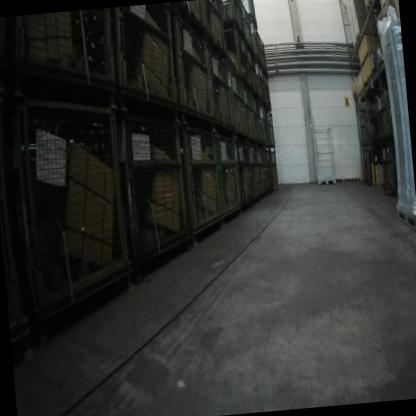pallet: (396, 199, 416, 232), (364, 0, 383, 16), (356, 31, 374, 44), (352, 41, 358, 52), (352, 91, 358, 97)
stillage: (17, 93, 137, 323), (114, 95, 193, 278), (8, 13, 119, 103), (113, 6, 179, 111), (171, 5, 218, 133), (181, 109, 224, 237), (214, 125, 244, 222), (208, 40, 234, 135), (231, 141, 258, 219), (227, 65, 249, 146), (223, 30, 249, 90), (203, 0, 227, 59), (377, 141, 402, 195), (253, 11, 272, 78), (240, 3, 258, 67), (244, 145, 263, 205), (373, 90, 394, 141), (358, 105, 378, 154), (263, 143, 281, 197), (240, 82, 256, 141), (221, 0, 245, 39), (247, 97, 264, 147), (255, 70, 272, 115), (254, 143, 268, 195), (246, 50, 260, 100), (360, 148, 378, 186), (261, 108, 275, 150), (210, 0, 224, 15)
